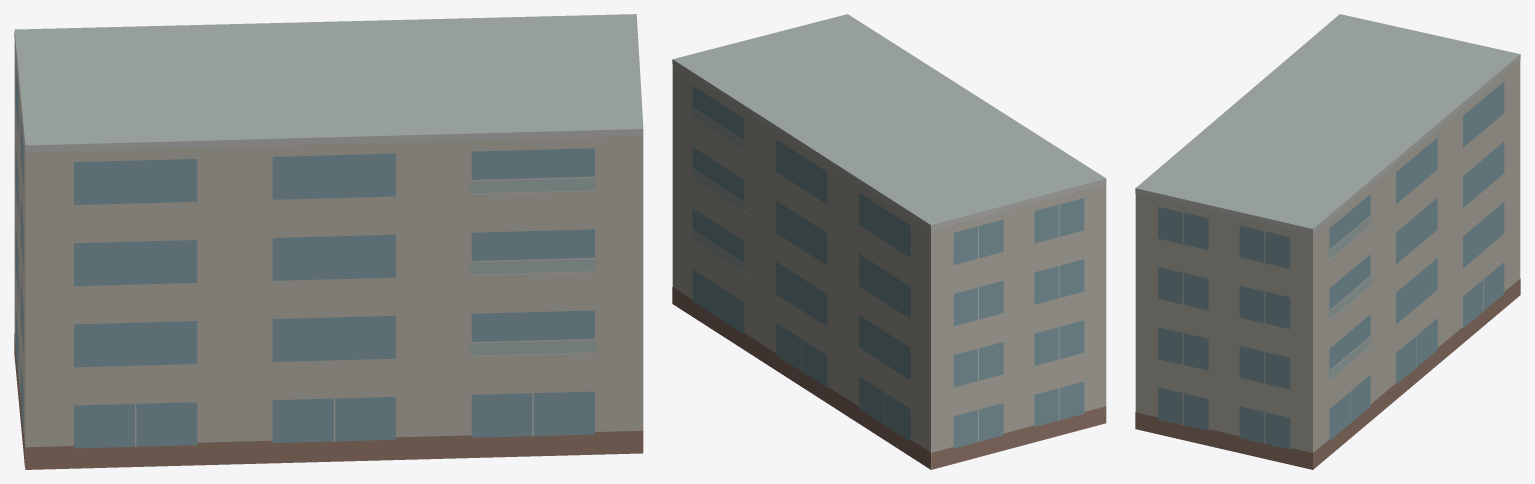
File: survey-upis-32885212.glb
3 views of the same model, side by side, from view 1: azimuth 30°, elevation 25°; view 2: azimuth 150°, elevation 25°; view 3: azimuth 270°, elevation 25° (orthographic). The views are drawn at different scales.
Parts seen in each view (by area): view 1: survey-upis-32885212.tmp; view 2: survey-upis-32885212.tmp; view 3: survey-upis-32885212.tmp.
Part boxes in pixels (x1=…): survey-upis-32885212.tmp: x1=14, y1=14, x2=643, y2=469; survey-upis-32885212.tmp: x1=672, y1=14, x2=1106, y2=469; survey-upis-32885212.tmp: x1=1135, y1=14, x2=1520, y2=469.
Bounding box in the file's own units: 22.02 × 11.5 × 16.66.
